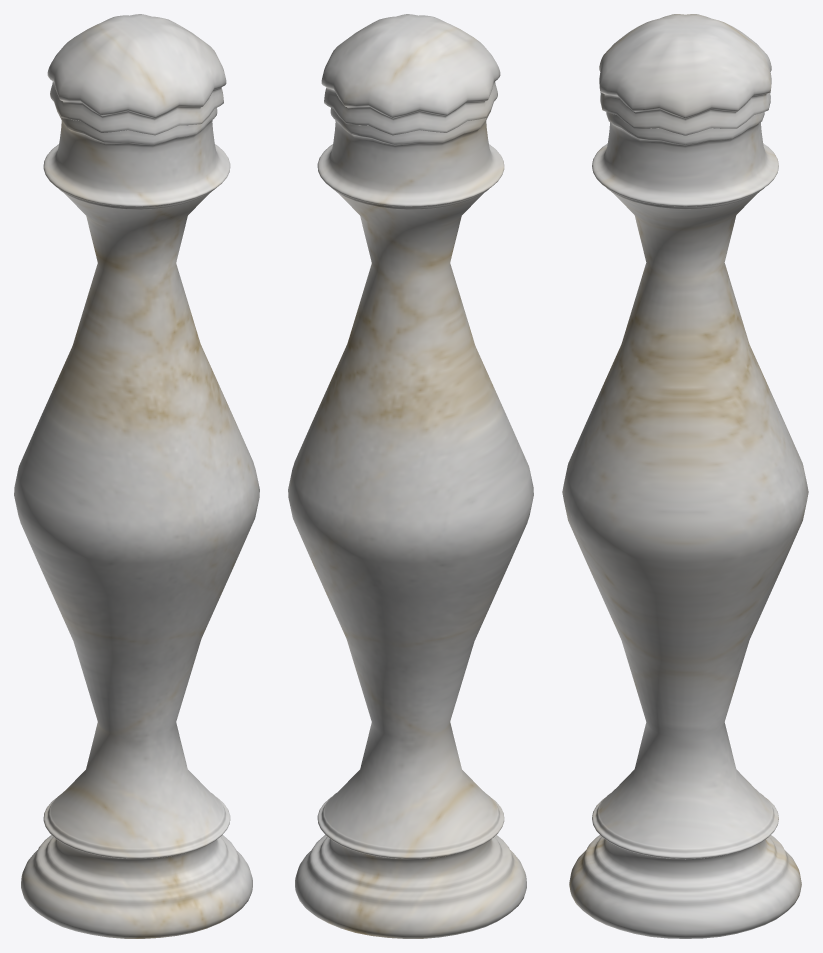
Rendered from Renai_PorchBar.fbx.
3 renders of one model, left to right at view 1: azimuth 30°, elevation 25°; view 2: azimuth 150°, elevation 25°; view 3: azimuth 270°, elevation 25°, orthographic.
Visible parts, largest first — view 1: PorchBar; view 2: PorchBar; view 3: PorchBar.
Boxes of the visible parts, x1,y1,x2,y2 form: PorchBar: [14, 14, 259, 938]; PorchBar: [288, 14, 533, 938]; PorchBar: [562, 14, 808, 938].
Size of the model in its own units: 0.3887 by 1.52 by 0.3885.
1 material, 1 textured.
